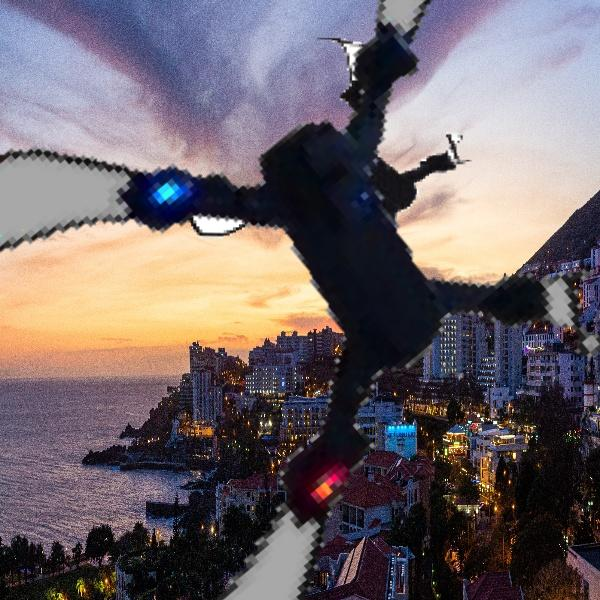drone: (174, 26, 479, 331)
